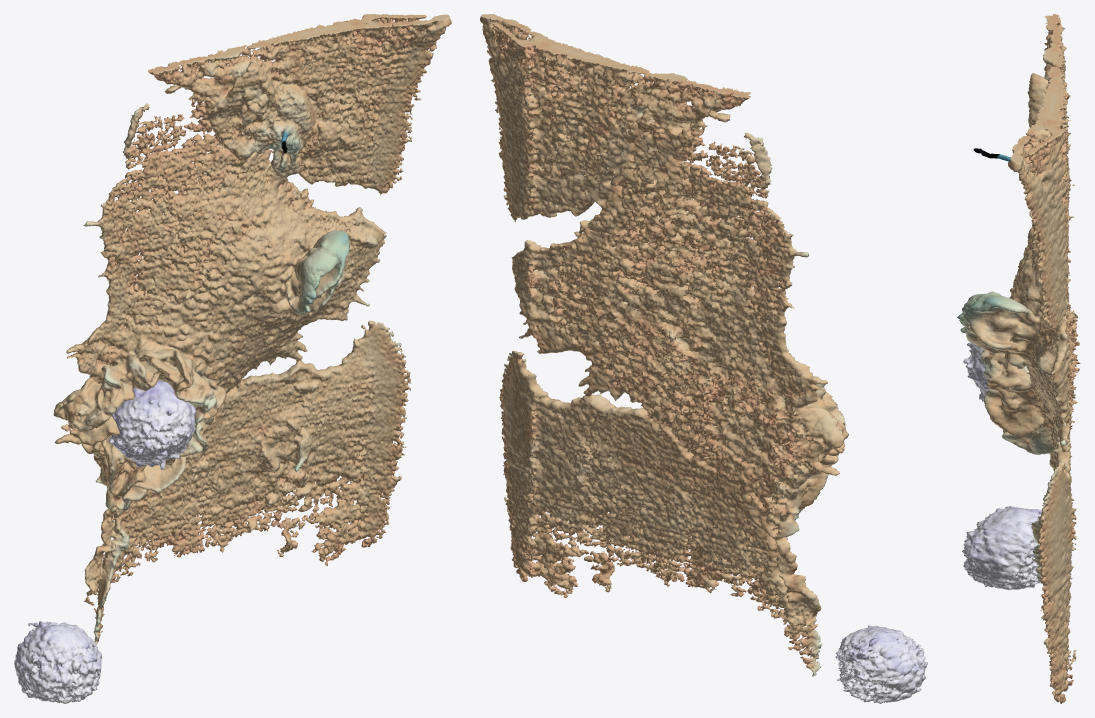
Rendered from Surfaces_2.glb.
3 views of the same model, side by side, from view 1: azimuth 30°, elevation 25°; view 2: azimuth 150°, elevation 25°; view 3: azimuth 270°, elevation 25° (orthographic). The views are drawn at different scales.
Parts seen in each view (by area): view 1: surface (×2); view 2: surface (×2); view 3: surface (×2).
Boxes of the visible parts, x1,y1,x2,y2 form: surface (×2): (14,14,451,703); surface (×2): (480,14,927,703); surface (×2): (957,14,1080,703).
Bounding box in the file's own units: 603 × 764 × 139.
